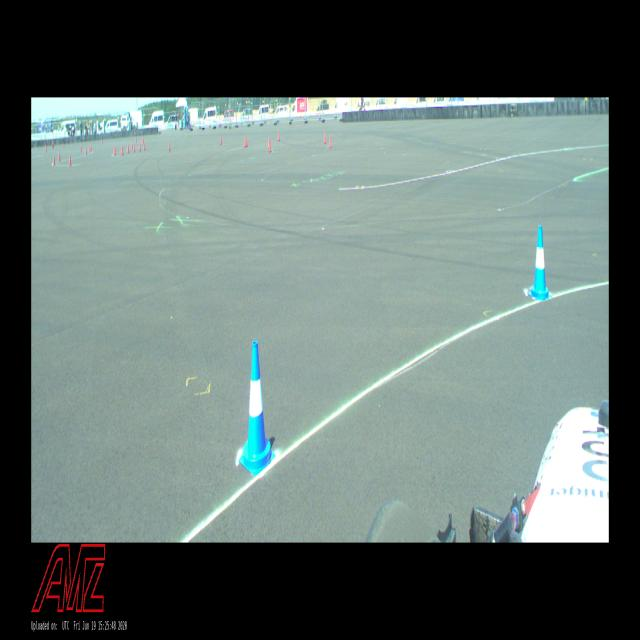blue_cone: (238, 341, 276, 475), (527, 226, 552, 300)
